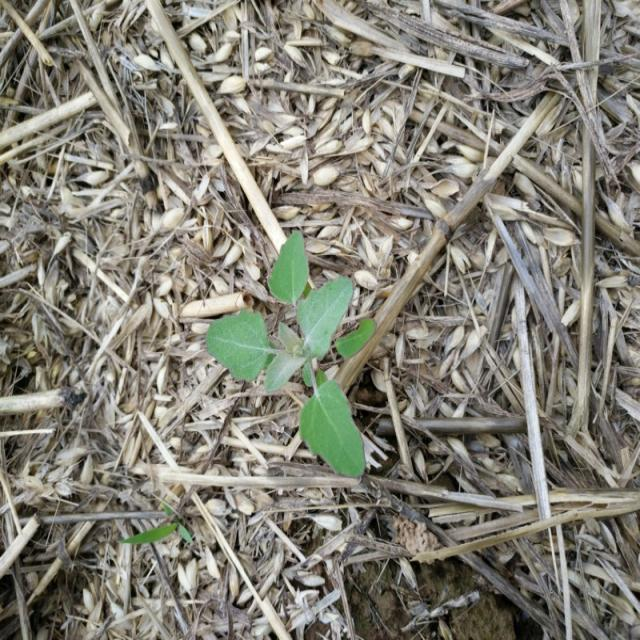goosefoots: (206, 253, 402, 507)
